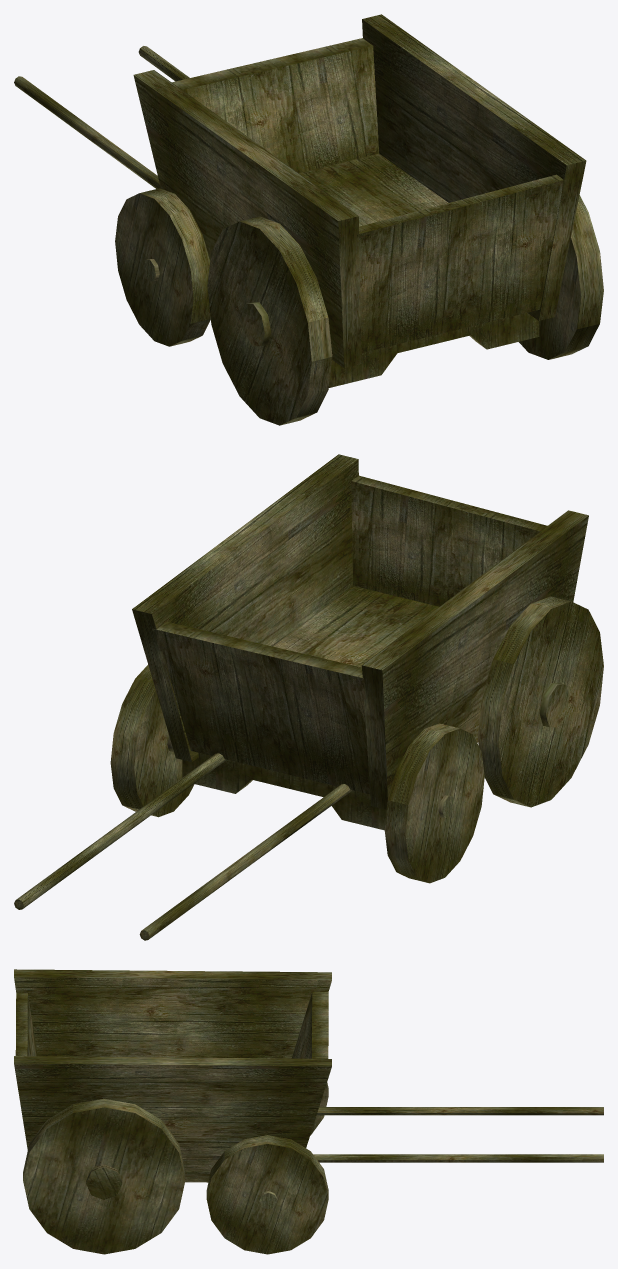
Rendered from Cart.glb.
3 renders of one model, top to bottom at view 1: azimuth 30°, elevation 25°; view 2: azimuth 150°, elevation 25°; view 3: azimuth 270°, elevation 25°, orthographic. The views are drawn at different scales.
Parts seen in each view (by area): view 1: Cart; view 2: Cart; view 3: Cart.
Part boxes in pixels (left/top/right/bottom): Cart: left=14, top=14, right=603, bottom=425; Cart: left=14, top=454, right=603, bottom=940; Cart: left=14, top=969, right=603, bottom=1254.
Bounding box in the file's own units: 2.13 × 1.56 × 4.58.
2 materials, 2 textured.
